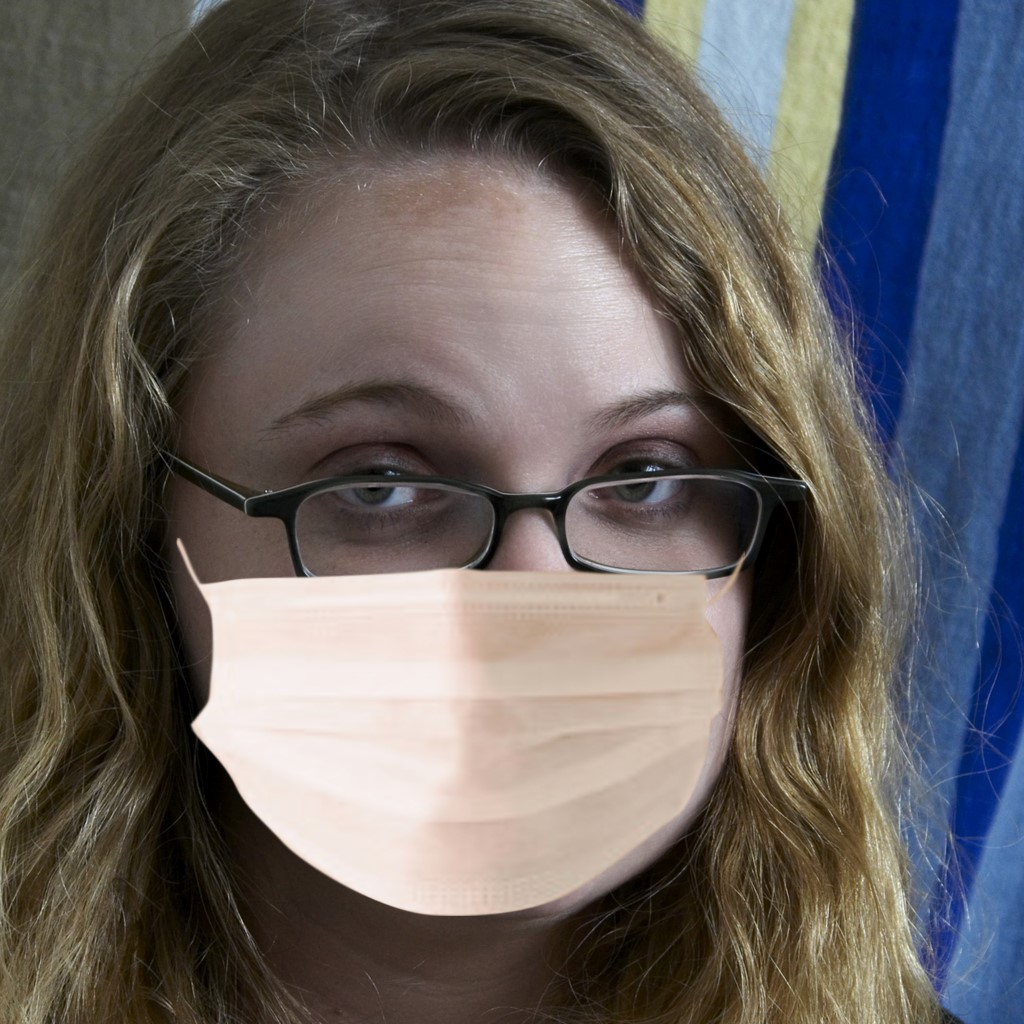con_mascara: (166, 116, 776, 931)
